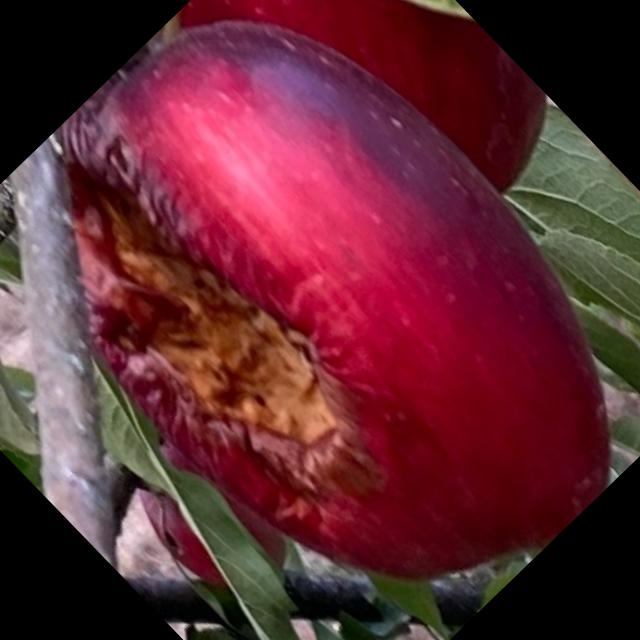Apples: (0, 0, 639, 639), (173, 0, 579, 278), (110, 422, 298, 614)
